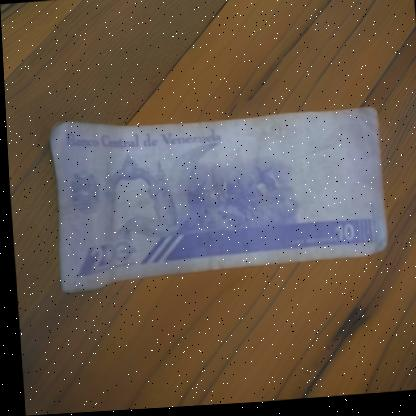ten-back-vef: (47, 102, 384, 290)
